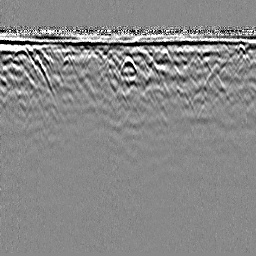cavity: (120, 55, 137, 73)
